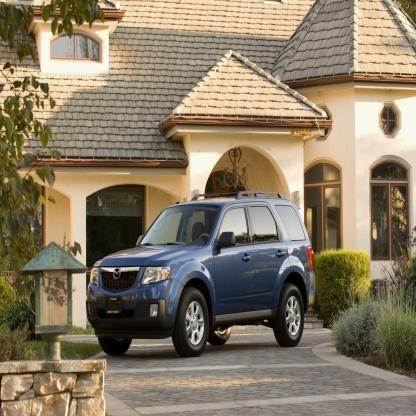Vehicle: (86, 190, 315, 358)
